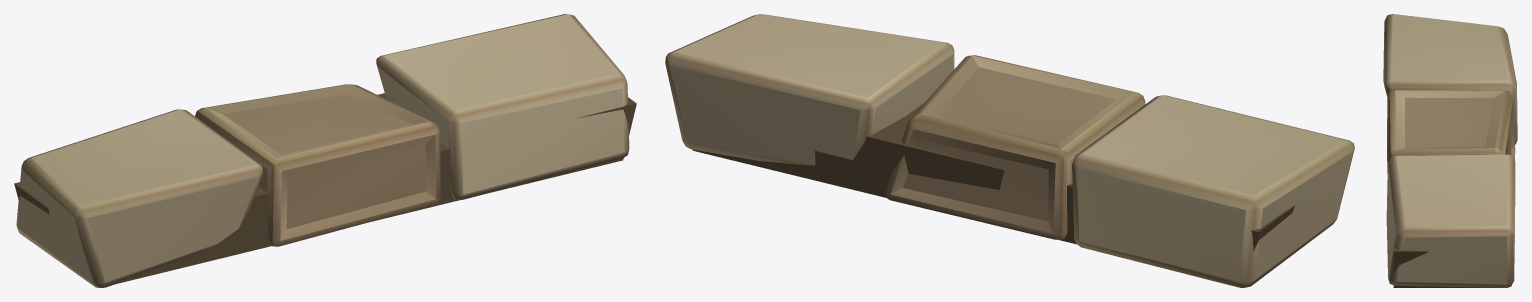
The model's file is rib_stone.glb.
3 renders of one model, left to right at view 1: azimuth 30°, elevation 25°; view 2: azimuth 150°, elevation 25°; view 3: azimuth 270°, elevation 25°, orthographic. The views are drawn at different scales.
Visible parts, largest first — view 1: RibStone; view 2: RibStone; view 3: RibStone.
Part boxes in pixels (box(x1,y1,x2,y2)): RibStone: box(14, 14, 636, 287); RibStone: box(665, 14, 1354, 287); RibStone: box(1383, 14, 1517, 287).
Size of the model in its own units: 2.25 by 0.347 by 0.5861.
